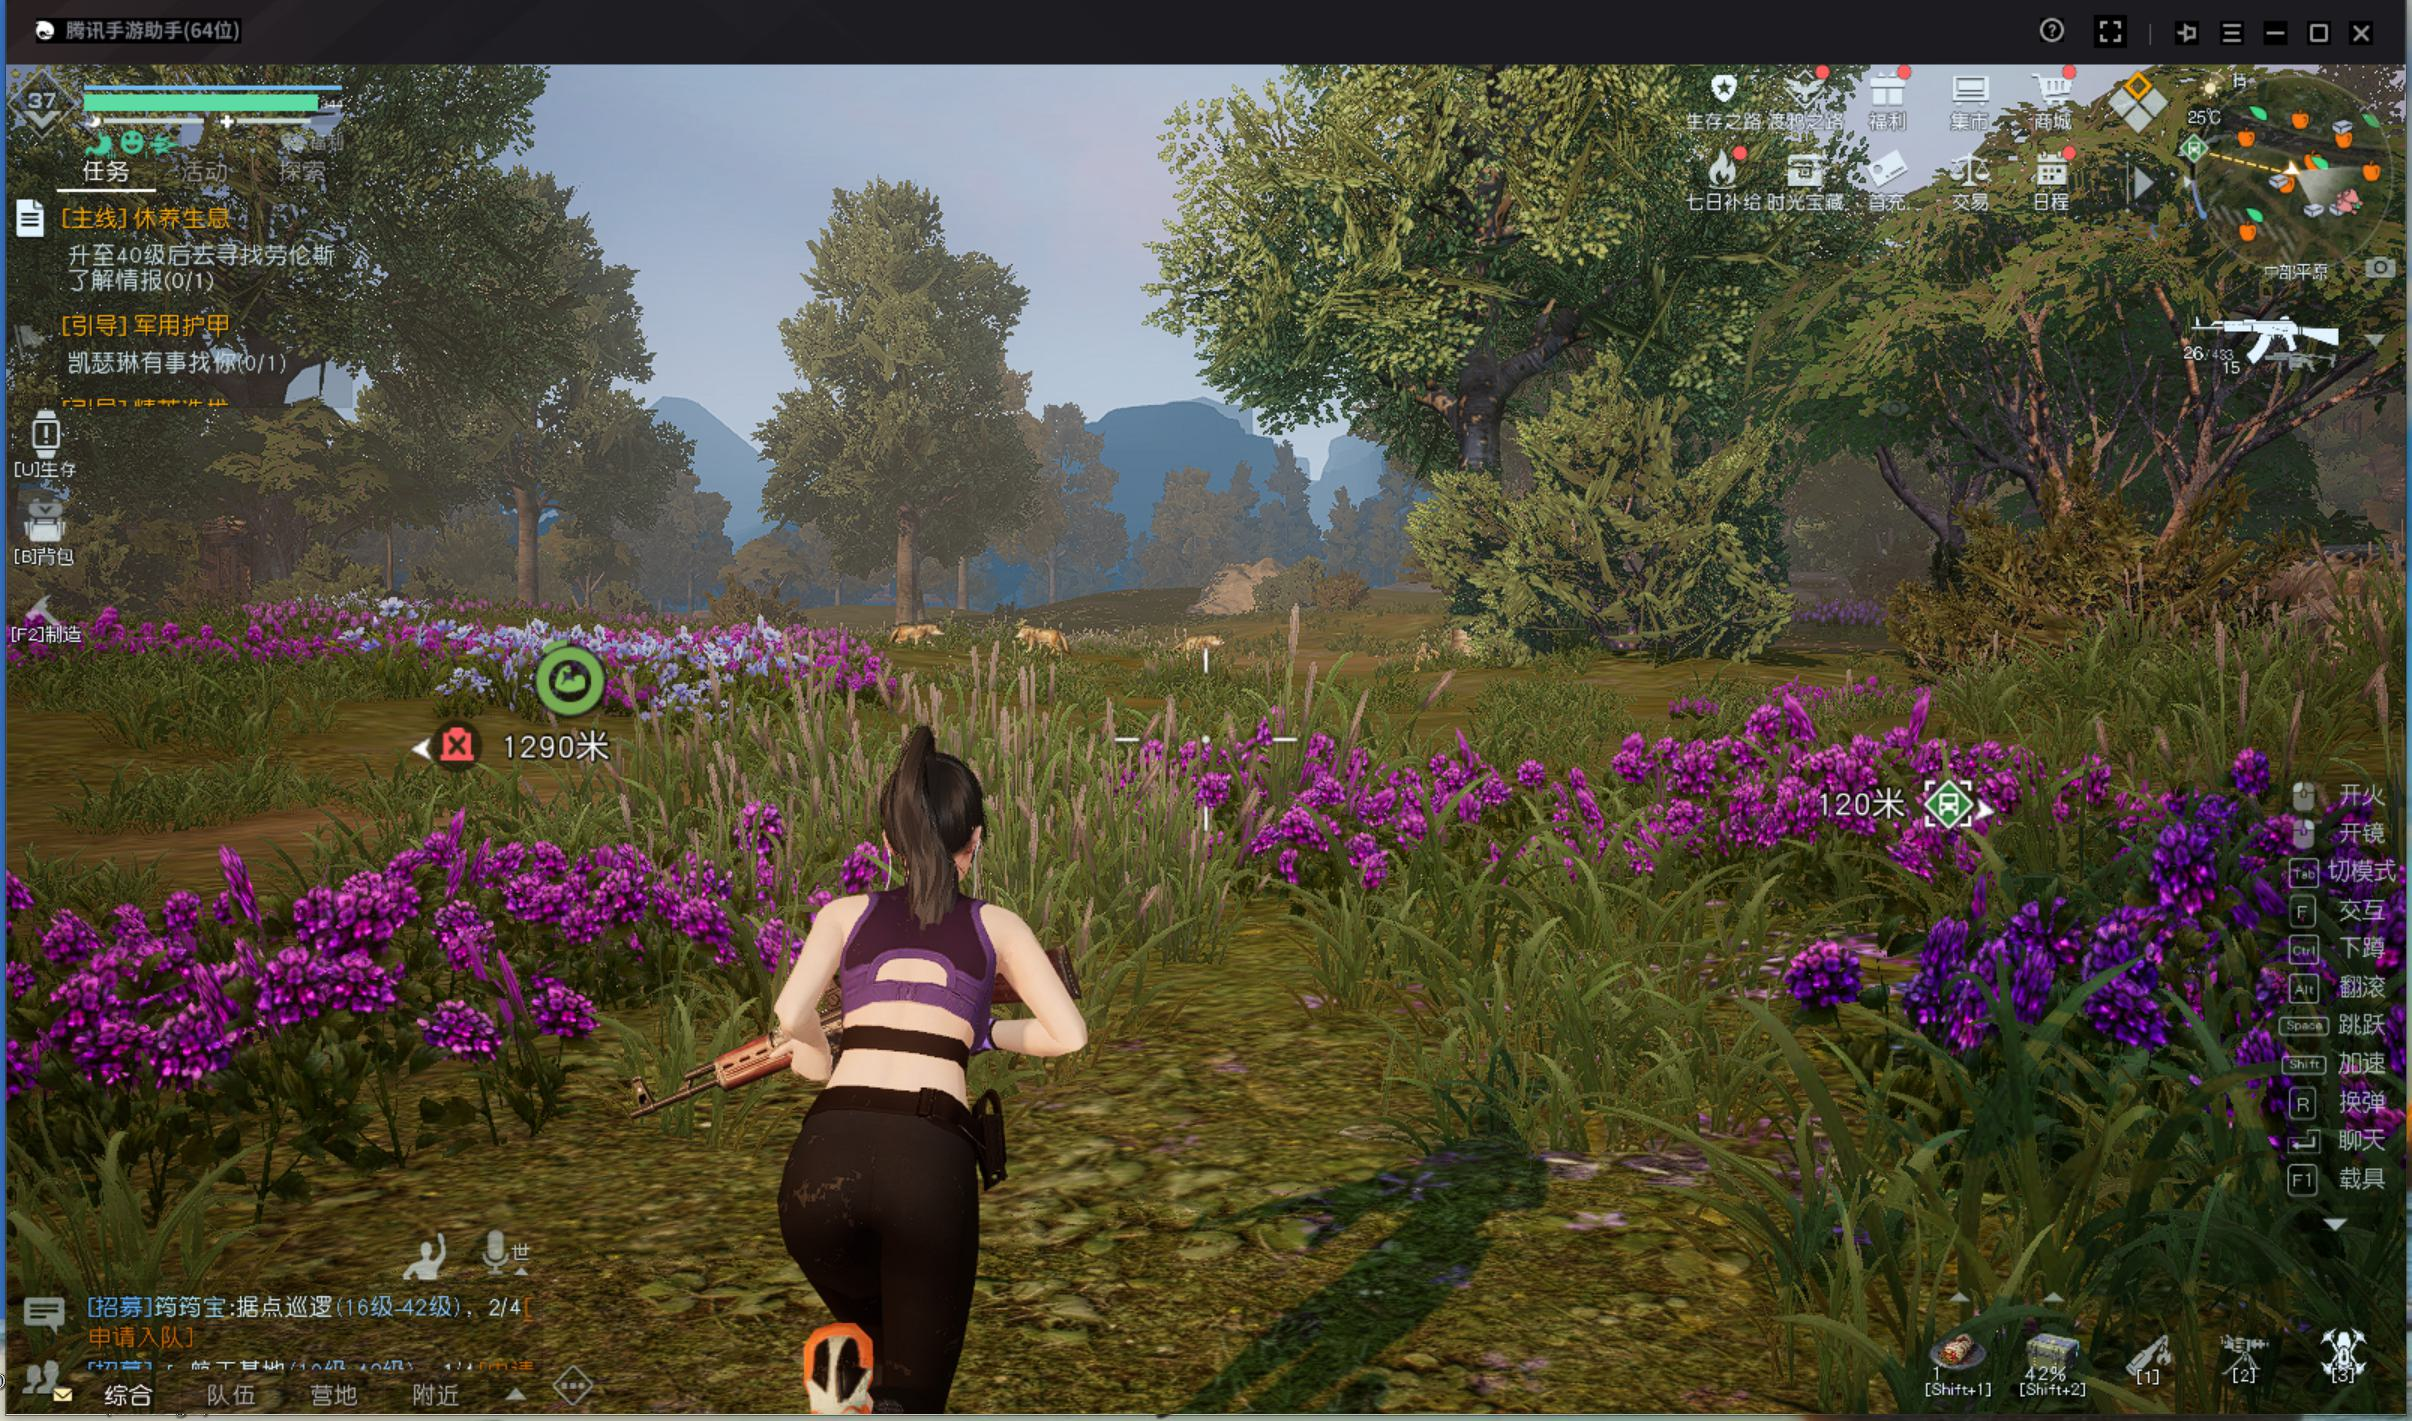tree: (1448, 426, 1509, 628), (885, 535, 925, 634), (509, 513, 545, 616)
